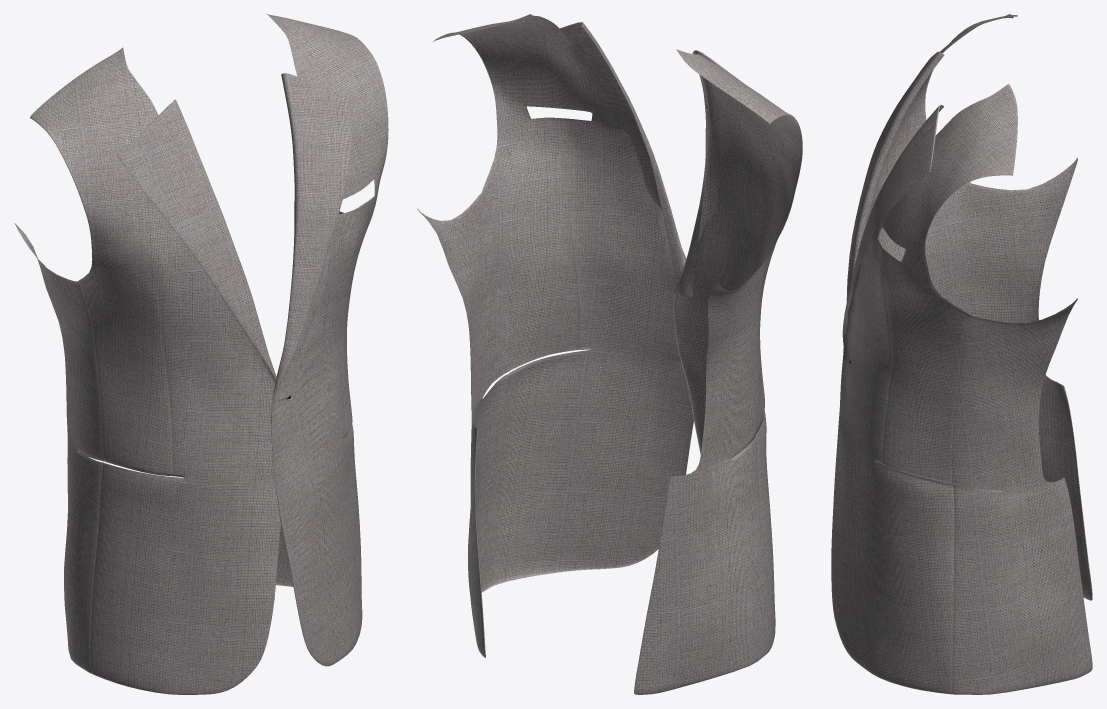
The model's file is notch_single_button.glb.
3 views of the same model, side by side, from view 1: azimuth 30°, elevation 25°; view 2: azimuth 150°, elevation 25°; view 3: azimuth 270°, elevation 25° (orthographic). The views are drawn at different scales.
Parts seen in each view (by area): view 1: notch_single_button; view 2: notch_single_button; view 3: notch_single_button.
Part boxes in pixels (bbox=[...]): notch_single_button: bbox=[14, 14, 388, 694]; notch_single_button: bbox=[417, 14, 802, 694]; notch_single_button: bbox=[831, 14, 1092, 694].
Bounding box in the file's own units: 0.0585 × 0.102 × 0.0411.
Materials: 2 (2 with a texture image).
